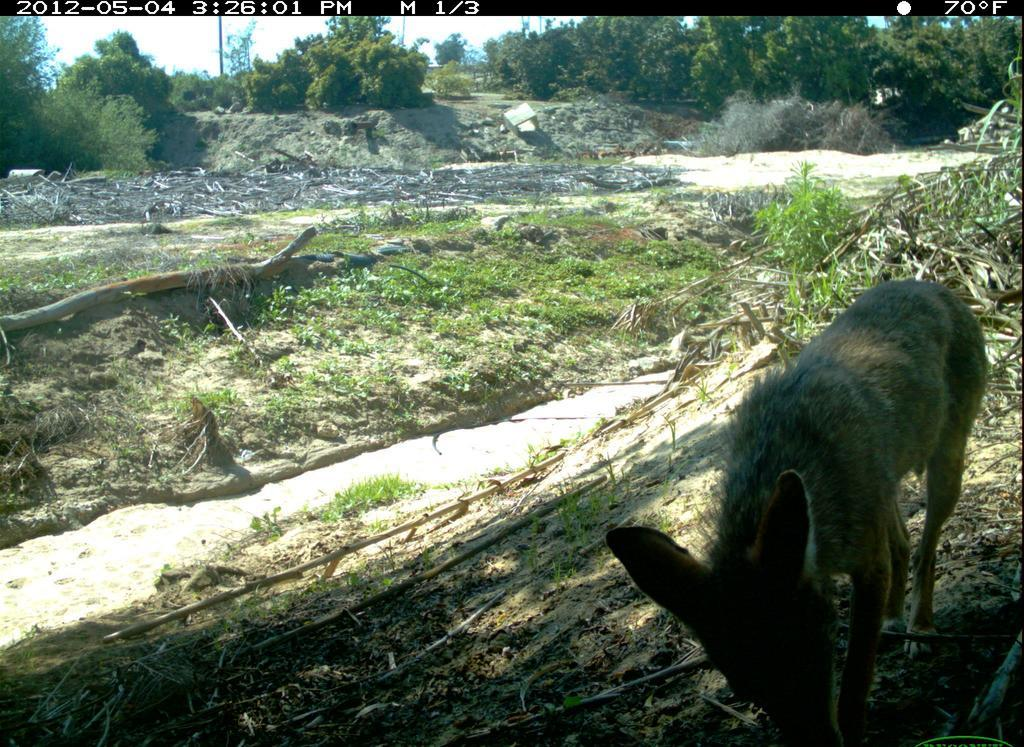coyote: (606, 269, 993, 744)
